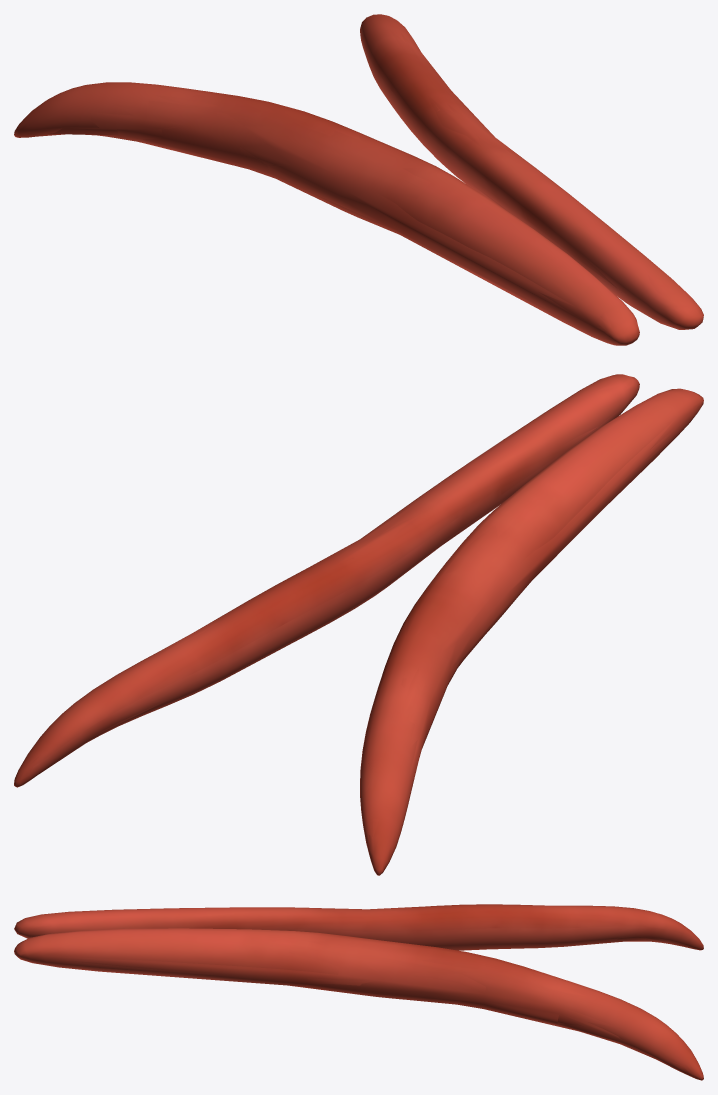
Rendered from Psoas minor.fbx.
3 renders of one model, top to bottom at view 1: azimuth 30°, elevation 25°; view 2: azimuth 150°, elevation 25°; view 3: azimuth 270°, elevation 25°, orthographic. The views are drawn at different scales.
Parts seen in each view (by area): view 1: Psoas minor, Psoas minor low; view 2: Psoas minor, Psoas minor low; view 3: Psoas minor, Psoas minor low.
Boxes of the visible parts, x1,y1,x2,y2 form: Psoas minor: (14, 14, 703, 345); Psoas minor low: (20, 15, 703, 343); Psoas minor: (14, 374, 703, 875); Psoas minor low: (14, 377, 700, 859); Psoas minor: (14, 904, 703, 1080); Psoas minor low: (15, 904, 699, 1076).
Size of the model in its own units: 8.05 by 2.67 by 17.65.
